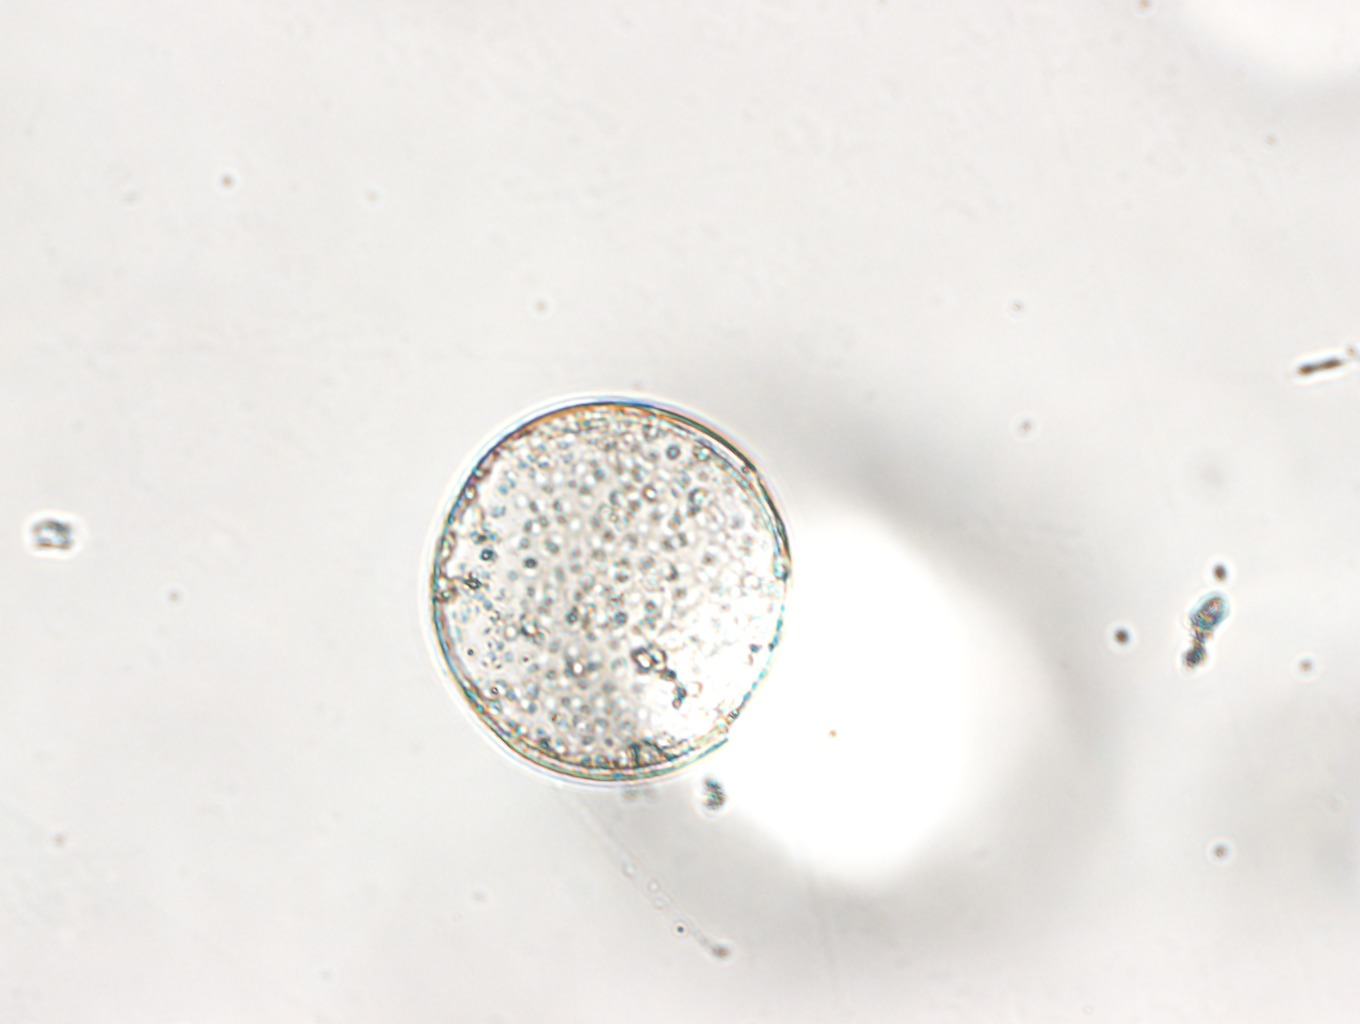coscinodiscus: (419, 392, 797, 787)
